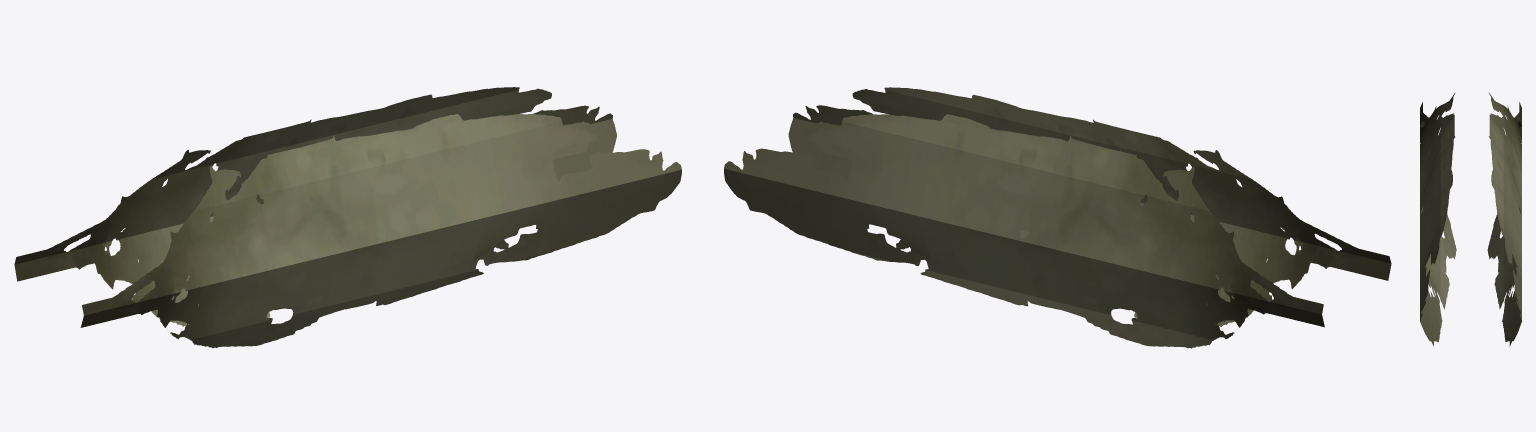
File: props_coalmines_foliage_single1.glb
The picture shows the model from 3 angles, left to right: view 1: azimuth 30°, elevation 25°; view 2: azimuth 150°, elevation 25°; view 3: azimuth 270°, elevation 25°; orthographic projection. The views are drawn at different scales.
Visible parts, largest first — view 1: models/props_coalmines/foliage_single1; view 2: models/props_coalmines/foliage_single1; view 3: models/props_coalmines/foliage_single1.
Part boxes in pixels (<box>): models/props_coalmines/foliage_single1: <box>14,87,681,348</box>; models/props_coalmines/foliage_single1: <box>724,87,1391,348</box>; models/props_coalmines/foliage_single1: <box>1420,92,1521,346</box>.
Bounding box in the file's own units: 58.88 × 23.84 × 11.71.
1 material, 1 textured.
